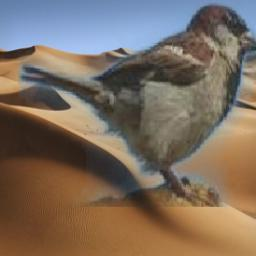Sparrow: (18, 4, 256, 208)
